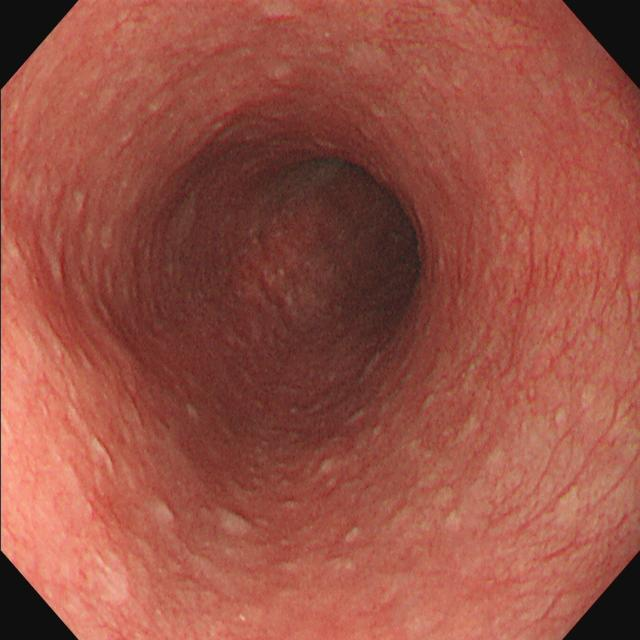E: (234, 158, 421, 361)
J: (80, 421, 130, 490), (145, 494, 186, 534), (309, 445, 350, 485), (219, 502, 259, 542), (336, 514, 376, 554)
